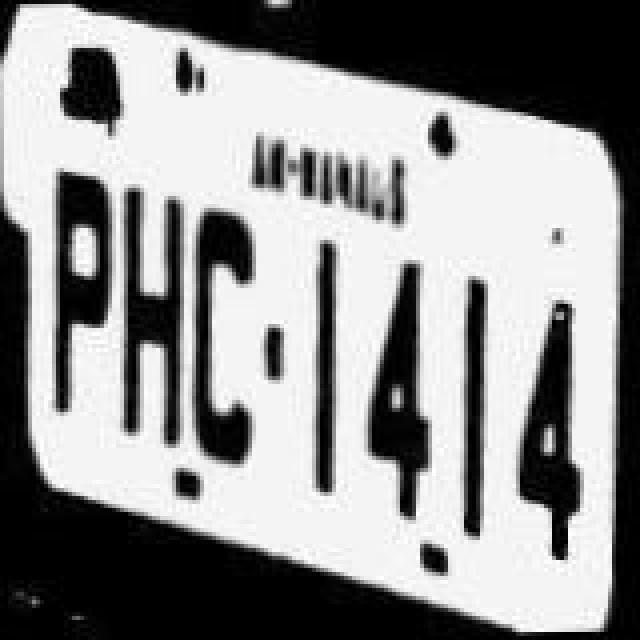1: (298, 234, 354, 490), (456, 264, 504, 544)
4: (512, 290, 592, 574), (366, 252, 442, 524)
C: (186, 200, 266, 472)
H: (112, 192, 188, 456)
P: (36, 166, 120, 442)
